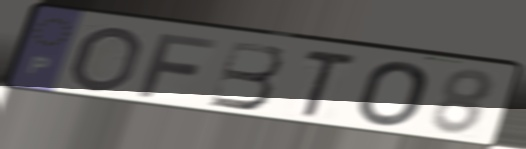8: (429, 67, 498, 140)
B: (206, 38, 286, 112)
F: (134, 30, 222, 100)
O: (66, 24, 146, 94), (354, 60, 431, 129)
T: (295, 47, 360, 120)
